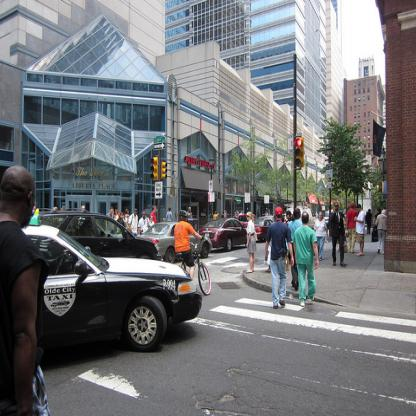handbag: (372, 230, 379, 242), (343, 241, 348, 254), (254, 232, 258, 241)
